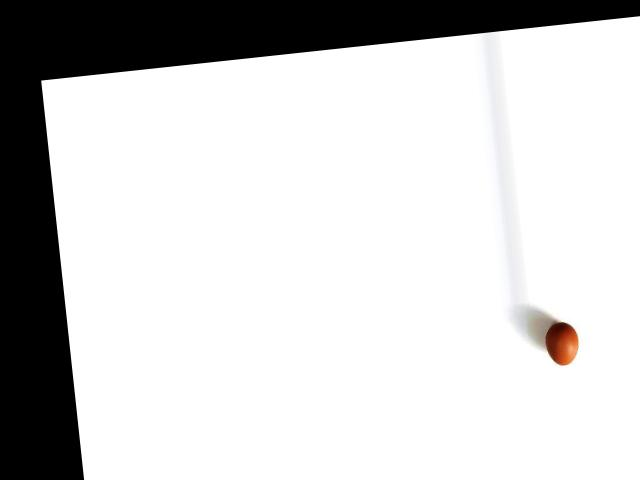egg: (544, 320, 580, 367)
